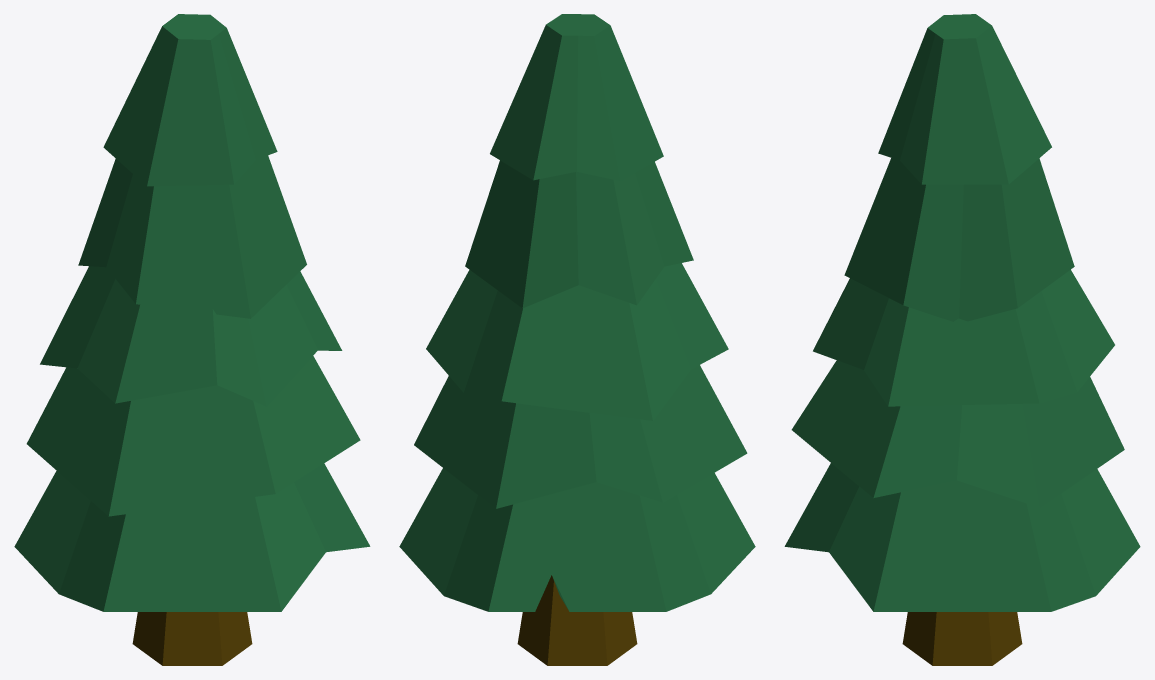
File: tree1.fbx
3 renders of one model, left to right at view 1: azimuth 30°, elevation 25°; view 2: azimuth 150°, elevation 25°; view 3: azimuth 270°, elevation 25°, orthographic.
Visible parts, largest first — view 1: Cylinder.004; view 2: Cylinder.004; view 3: Cylinder.004.
Boxes of the visible parts, bbox=[...] form: Cylinder.004: bbox=[14, 14, 370, 665]; Cylinder.004: bbox=[399, 14, 755, 665]; Cylinder.004: bbox=[784, 14, 1140, 665].
Size of the model in its own units: 413 by 914 by 477.
